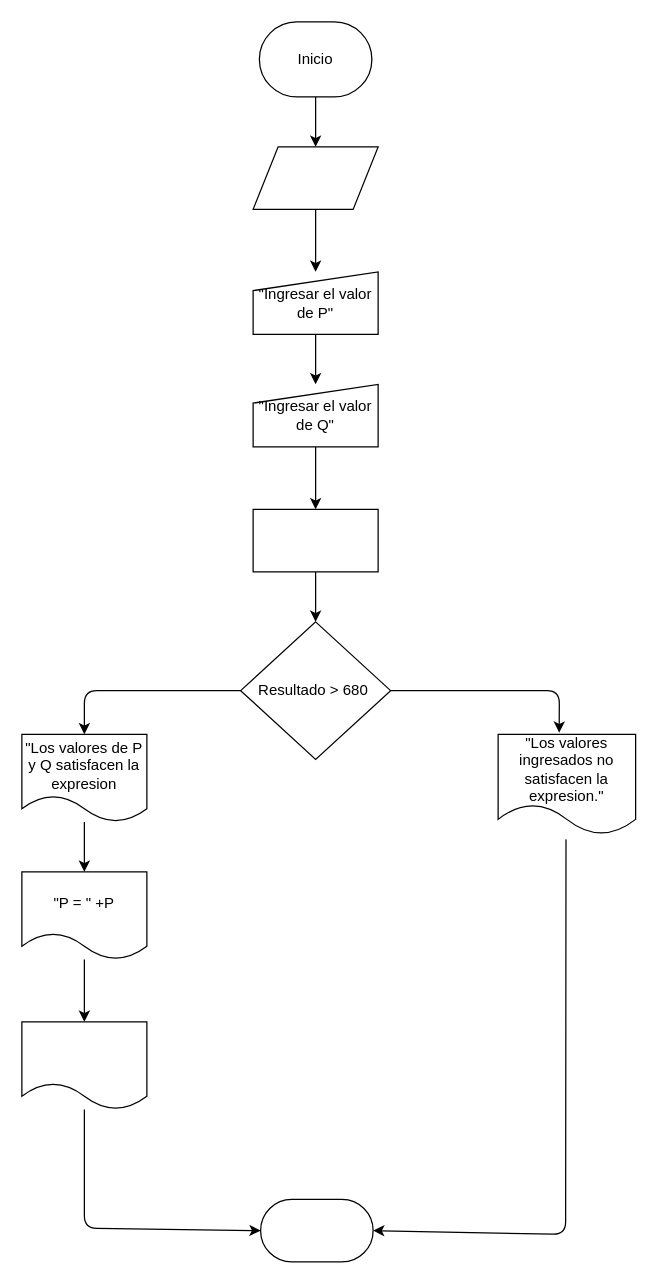
Image size: 658x1284. Some labels were removed from this diagram. Here are the shapes that lost their labels. From the top down, the box of each, then its label:
(252, 146, 378, 209): P, Q, Resultado
(252, 508, 378, 572): Resultado = : P3 + Q4 – 2*P2
(21, 1021, 147, 1109): Q = " +Q
(259, 1198, 373, 1262): Fin
